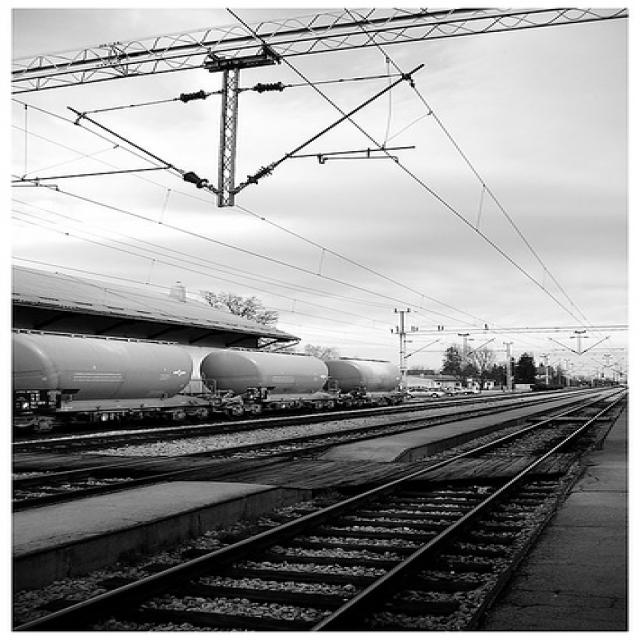tank: (0, 318, 197, 436), (197, 344, 339, 419), (324, 355, 411, 412)
